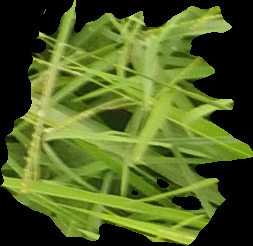grass: (1, 1, 251, 244)
